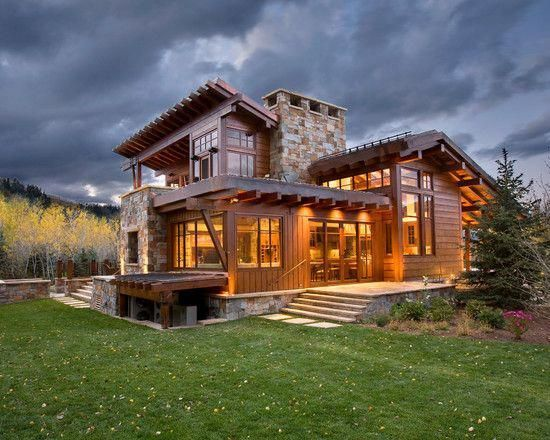Building House: (109, 83, 508, 330)
